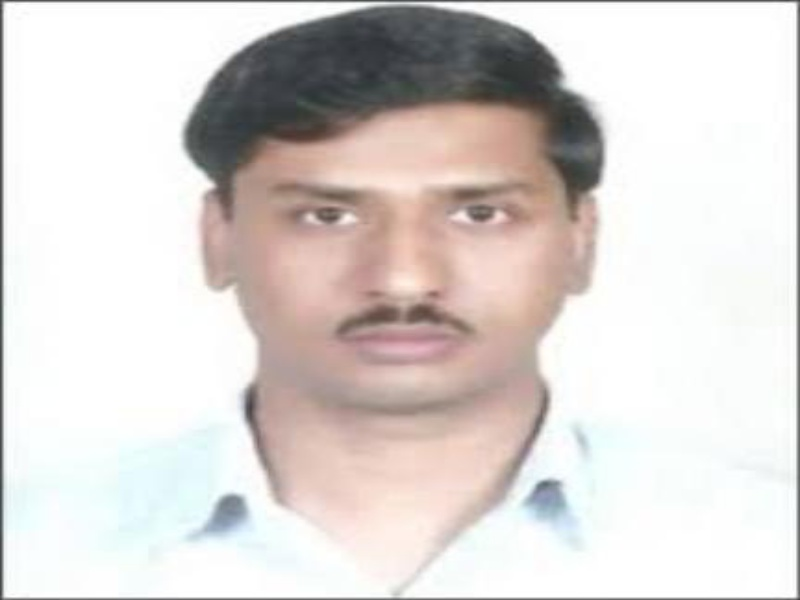TsisyArotava: (193, 46, 602, 422)
